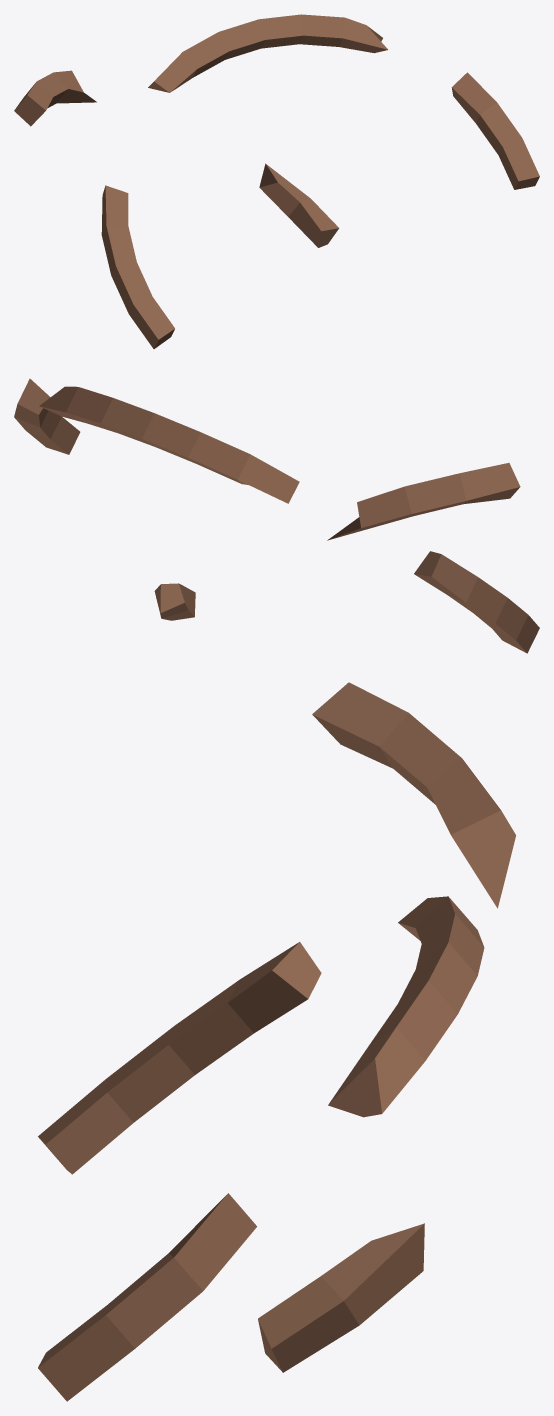
The model's file is Broken_ring.glb.
3 views of the same model, one above another, from view 1: azimuth 30°, elevation 25°; view 2: azimuth 150°, elevation 25°; view 3: azimuth 270°, elevation 25° (orthographic). The views are drawn at different scales.
Parts seen in each view (by area): view 1: broken_ring.001, broken_ring; view 2: broken_ring.001, broken_ring; view 3: broken_ring.001, broken_ring.
Boxes of the visible parts, x1,y1,x2,y2 form: broken_ring.001: (101,14,539,348); broken_ring: (14,70,339,247); broken_ring.001: (14,378,539,653); broken_ring: (154,463,520,620); broken_ring.001: (38,896,484,1401); broken_ring: (258,682,515,1372).
Bounding box in the file's own units: 2.27 × 1.05 × 1.05.
